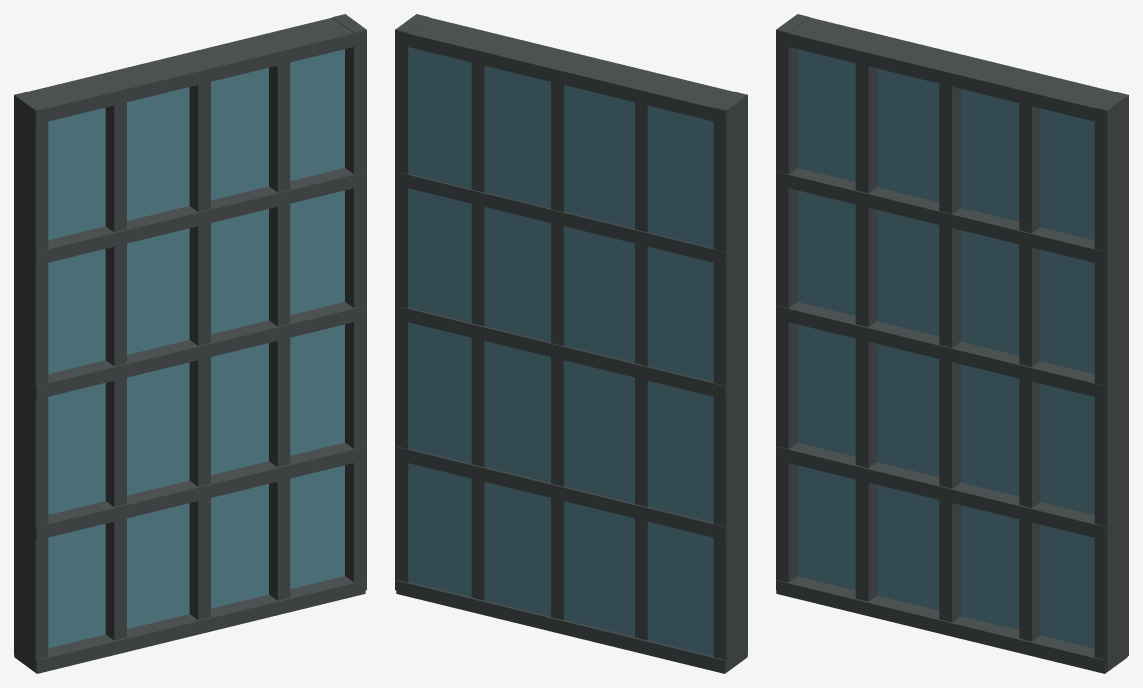
The model's file is window 2.fbx.
3 views of the same model, side by side, from view 1: azimuth 30°, elevation 25°; view 2: azimuth 150°, elevation 25°; view 3: azimuth 330°, elevation 25° (orthographic).
Parts seen in each view (by area): view 1: PM3D_Cube3D1_195; view 2: PM3D_Cube3D1_195; view 3: PM3D_Cube3D1_195.
Boxes of the visible parts, box(x1,y1,x2,y2) form: PM3D_Cube3D1_195: box(14, 14, 366, 673); PM3D_Cube3D1_195: box(395, 14, 747, 673); PM3D_Cube3D1_195: box(776, 14, 1128, 673).
Bounding box in the file's own units: 176 × 286 × 21.07.
